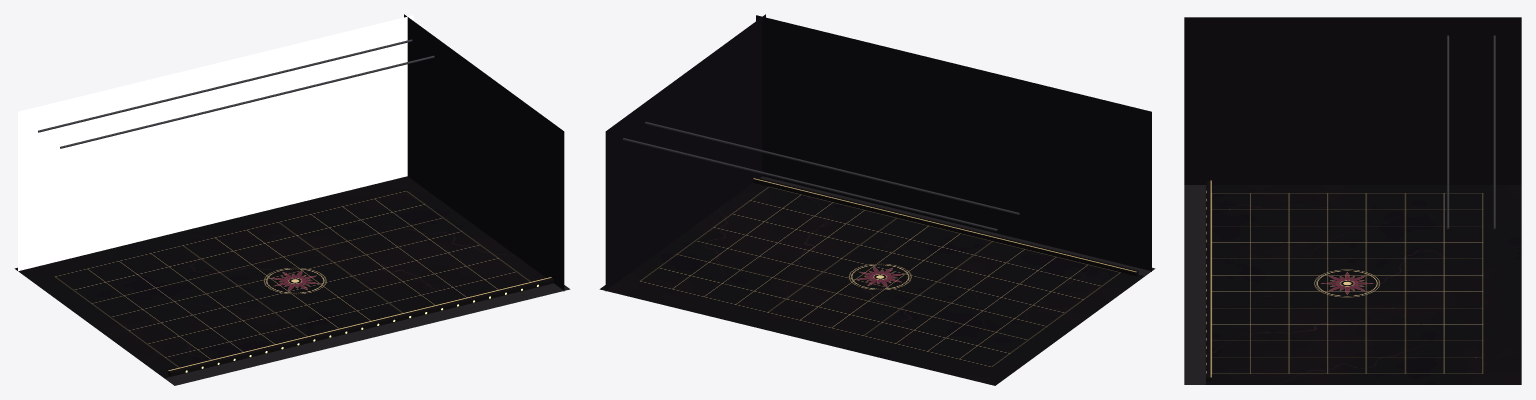
Rendered from ptsdream-girl.glb.
3 renders of one model, left to right at view 1: azimuth 30°, elevation 25°; view 2: azimuth 150°, elevation 25°; view 3: azimuth 270°, elevation 25°, orthographic. The views are drawn at different scales.
Visible parts, largest first — view 1: set.ptsd_cyc, set.ptsd_floor.mirror.nocast, set.ptsd_velour, set.ptsd_lip, set.ptsd_steel, set.ptsd_gold; view 2: set.ptsd_velour.hidden, set.ptsd_floor.mirror.nocast, set.ptsd_velour, set.ptsd_lip, set.ptsd_steel, set.ptsd_gold; view 3: set.ptsd_floor.mirror.nocast, set.ptsd_velour, set.ptsd_steel, set.ptsd_lip, set.ptsd_gold.
Part boxes in pixels (x1,y1,x2,y2): set.ptsd_cyc: (18, 15, 413, 271); set.ptsd_floor.mirror.nocast: (14, 176, 570, 385); set.ptsd_velour: (404, 14, 564, 291); set.ptsd_lip: (168, 278, 553, 376); set.ptsd_steel: (38, 39, 434, 148); set.ptsd_gold: (168, 277, 551, 370); set.ptsd_velour.hidden: (756, 15, 1151, 271); set.ptsd_floor.mirror.nocast: (599, 176, 1155, 385); set.ptsd_velour: (605, 14, 765, 291); set.ptsd_lip: (753, 177, 1138, 276); set.ptsd_steel: (623, 122, 1019, 230); set.ptsd_gold: (753, 178, 1136, 272); set.ptsd_floor.mirror.nocast: (1184, 185, 1521, 384); set.ptsd_velour: (1184, 17, 1521, 184); set.ptsd_steel: (1447, 35, 1495, 229); set.ptsd_lip: (1206, 181, 1211, 381); set.ptsd_gold: (1210, 180, 1211, 377).
Bounding box in the file's own units: 24.8 × 9.6 × 17.4.
Materials: 7 (4 with a texture image).
